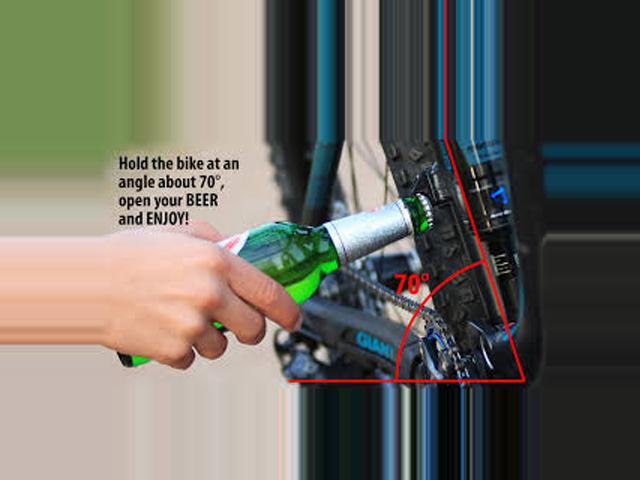beer: (116, 194, 438, 368)
